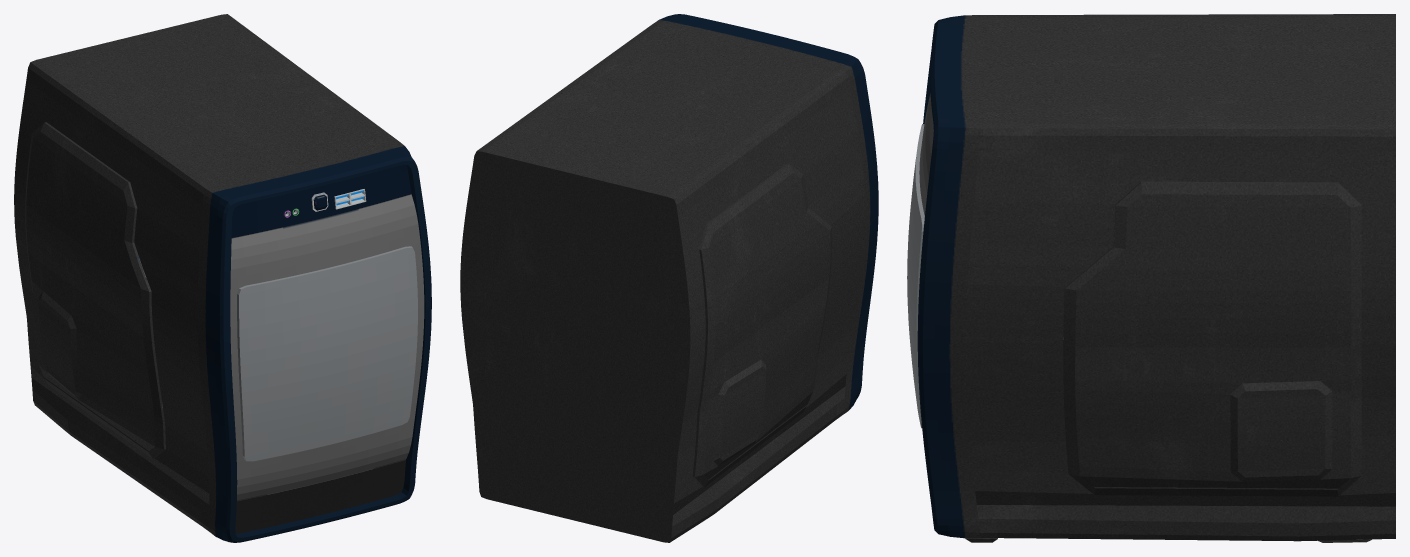
Rendered from Desktop2.fbx.
3 renders of one model, left to right at view 1: azimuth 30°, elevation 25°; view 2: azimuth 150°, elevation 25°; view 3: azimuth 270°, elevation 25°, orthographic. The views are drawn at different scales.
Parts seen in each view (by area): view 1: DesktopPC2Bake; view 2: DesktopPC2Bake; view 3: DesktopPC2Bake.
Part boxes in pixels (x1,y1,x2,y2): DesktopPC2Bake: [14, 14, 431, 542]; DesktopPC2Bake: [460, 14, 878, 542]; DesktopPC2Bake: [907, 14, 1395, 542].
Size of the model in its own units: 152 by 208 by 215.
